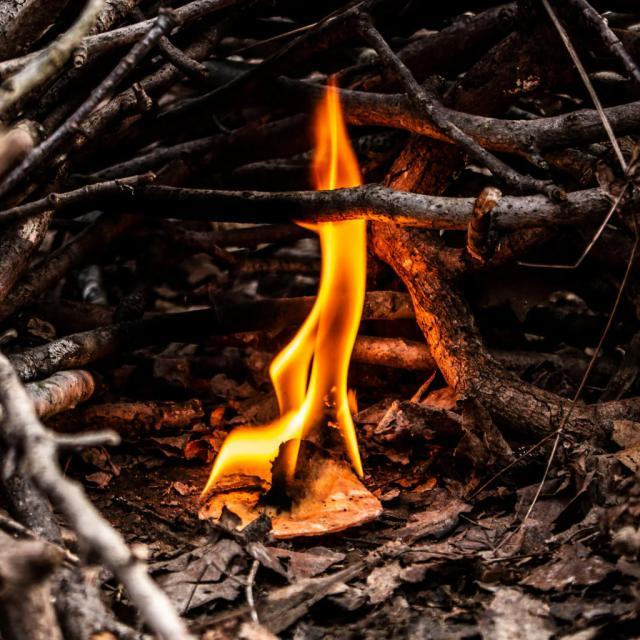Fire: (203, 80, 418, 530)
